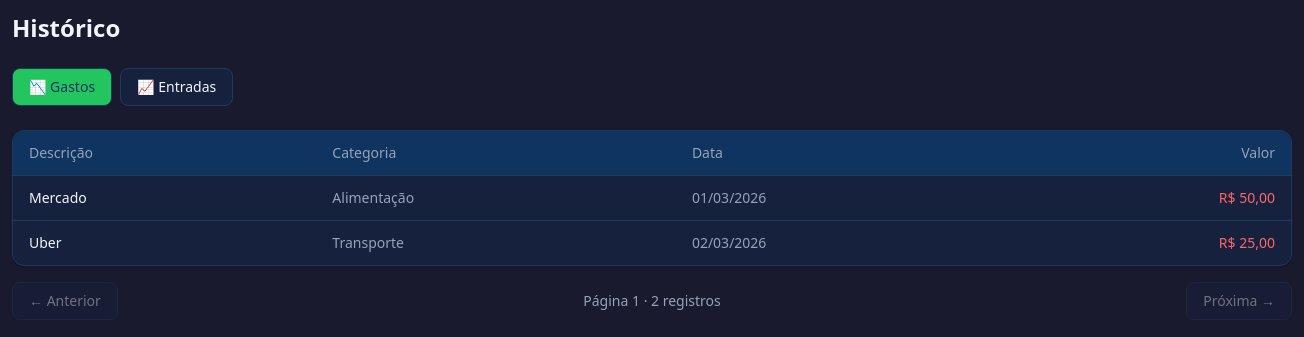
PaginaHistorico — alternância de abas › clicar em Entradas exibe os dados de entradas
Check: the text "Mercado" is shown, box [13, 176, 316, 220]
Click the button "📈 Entradas": (177, 87) [120, 68, 233, 106]
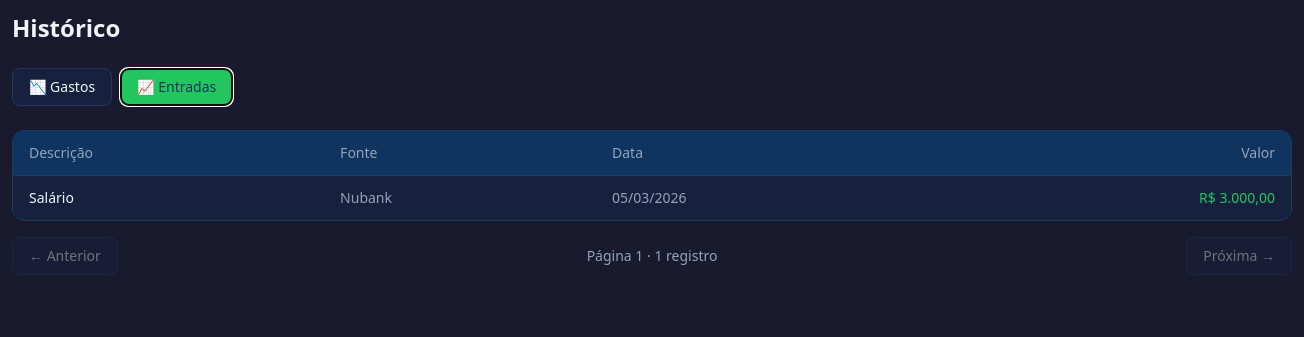
Check: the text "Salário" is shown, box [13, 176, 324, 220]
Check: the text "Nubank" is shown, box [324, 176, 596, 220]
